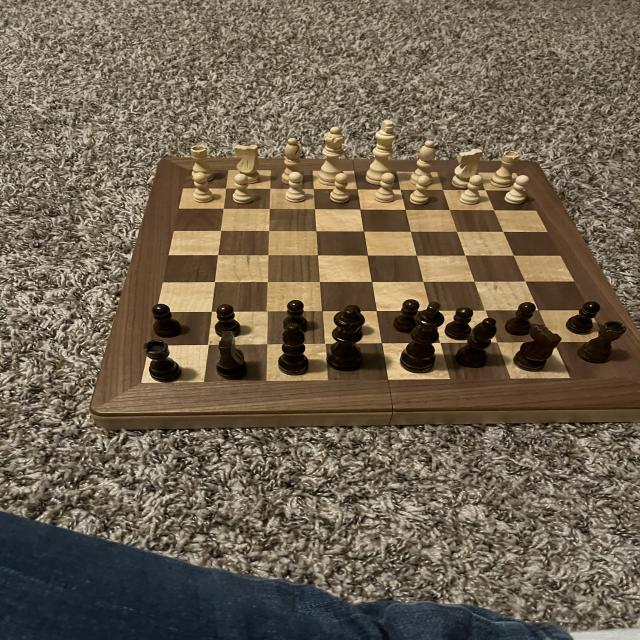bishop: (452, 316, 500, 372), (272, 323, 314, 379)
black-bishop: (398, 300, 446, 374)
black-king: (509, 323, 566, 381), (207, 330, 257, 382)
black-knight: (148, 300, 187, 340), (332, 301, 368, 343), (562, 299, 602, 336), (501, 300, 539, 337), (391, 293, 424, 335), (213, 300, 246, 339), (445, 302, 476, 343), (280, 295, 311, 335)
black-pawn: (323, 308, 373, 376)
black-queen: (575, 319, 629, 366), (140, 338, 188, 386)
black-rook: (280, 134, 309, 186), (413, 140, 439, 189)
white-bishop: (365, 116, 401, 188)
white-king: (230, 142, 262, 192), (452, 144, 485, 190)
white-knight: (188, 169, 220, 204), (282, 170, 314, 205), (502, 173, 534, 207), (406, 174, 436, 205), (232, 171, 256, 206), (459, 174, 485, 206), (328, 171, 352, 205), (375, 171, 397, 204)
white-pawn: (316, 126, 351, 188)
white-queen: (183, 143, 220, 184), (489, 148, 522, 189)
